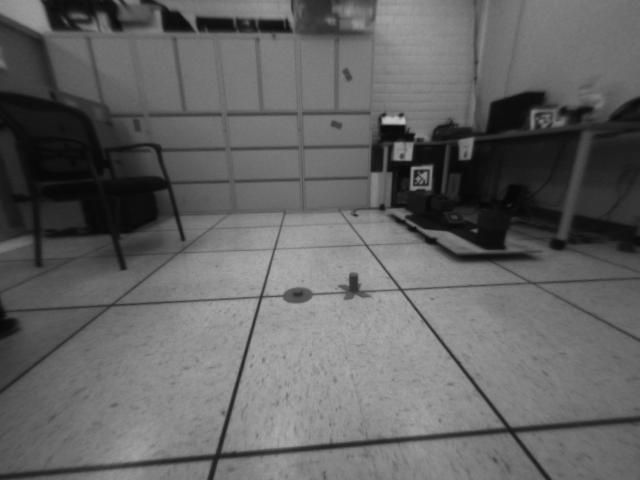X: (336, 270, 373, 302)
